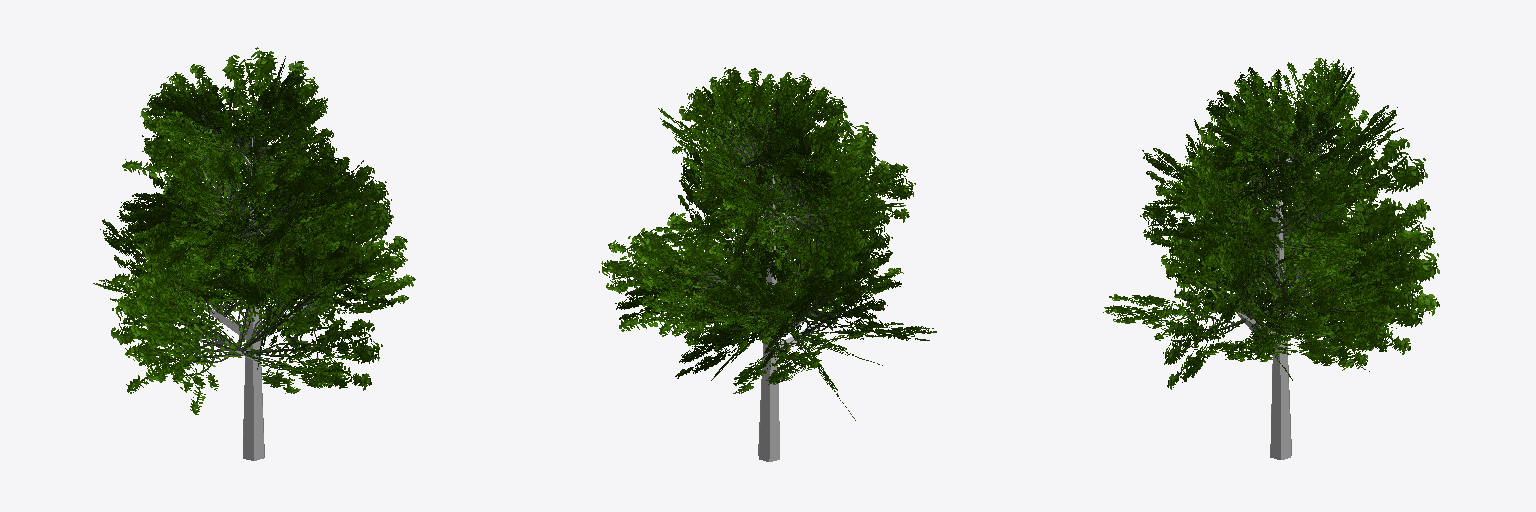
3 views of the same model, side by side, from view 1: azimuth 30°, elevation 25°; view 2: azimuth 150°, elevation 25°; view 3: azimuth 270°, elevation 25° (orthographic).
Parts seen in each view (by area): view 1: Default; view 2: Default; view 3: Default.
Boxes of the visible parts, box(x1,y1,x2,y2) form: Default: box(93, 47, 415, 460); Default: box(599, 67, 936, 461); Default: box(1103, 58, 1439, 459).
Size of the model in its own units: 14.65 by 17.83 by 16.03.
Materials: 2 (1 with a texture image).